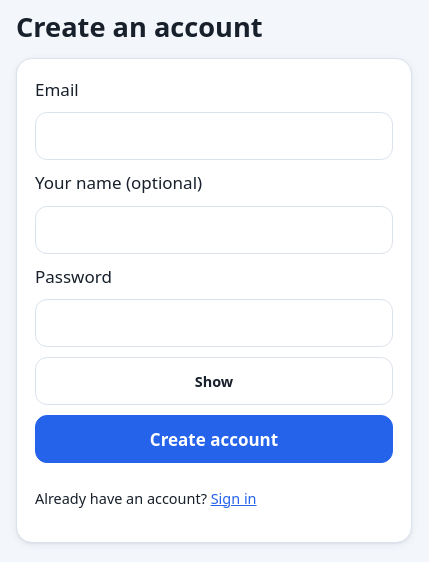
SignupPage › always says to check the email, so nobody learns which addresses have accounts
This screenshot has width=429, height=562.
Type "ana@shop.example" into the field labelled "Email" at (214,136), box [35,112,393,160]
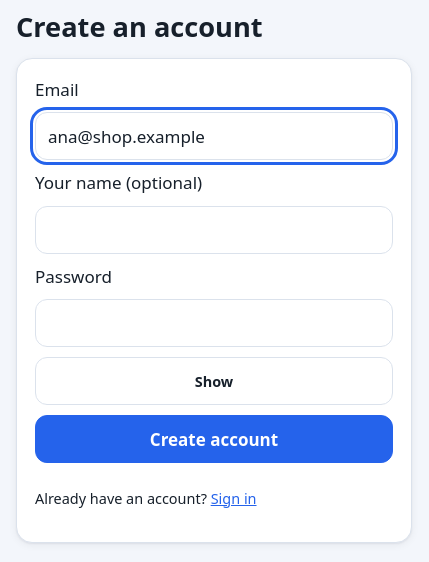
Type "a long passphrase" into the password field labelled "Password" at (214,323), box [35,299,393,347]
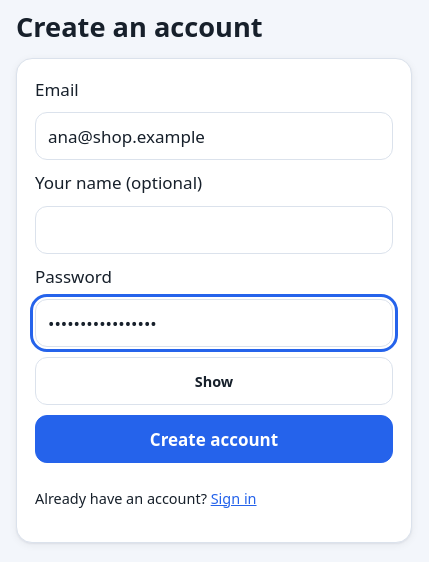
Click the button "Create account" at (214,439), box [35,415,393,463]
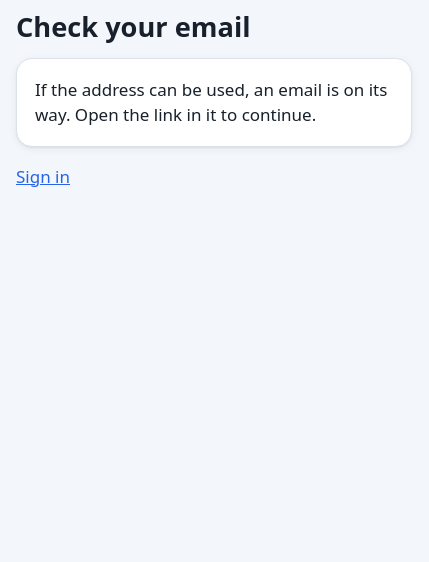
Now the text "If the address can be used, an email is on its way. Open the link in it to continue." is shown, box [35,78,387,126]
